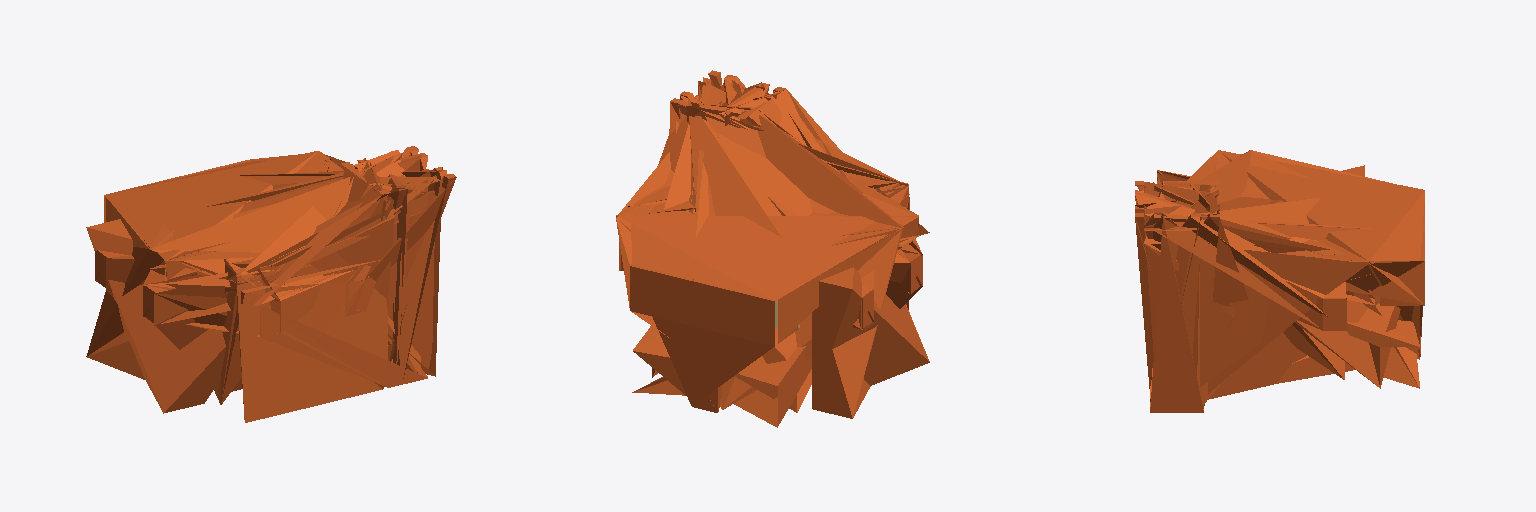
The model's file is Fortress.obj.
The picture shows the model from 3 angles: view 1: azimuth 30°, elevation 25°; view 2: azimuth 150°, elevation 25°; view 3: azimuth 270°, elevation 25°; orthographic projection.
Visible parts, largest first — view 1: Box111, Box139; view 2: Box111, Box139; view 3: Box111, Box139.
Part boxes in pixels (x1,y1,x2,y2): Box111: (86,146,456,422); Box139: (104,151,329,282); Box111: (616,70,929,427); Box139: (616,207,918,411); Box111: (1135,150,1424,412); Box139: (1218,150,1424,359).
Bounding box in the file's own units: 501022 × 377585 × 491977.